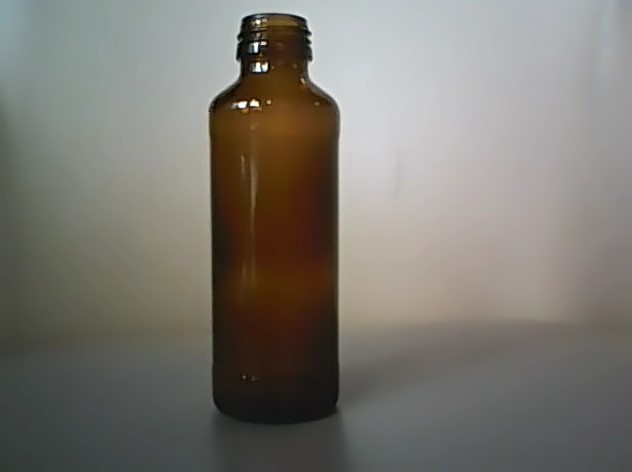Glass: (206, 9, 342, 424)
